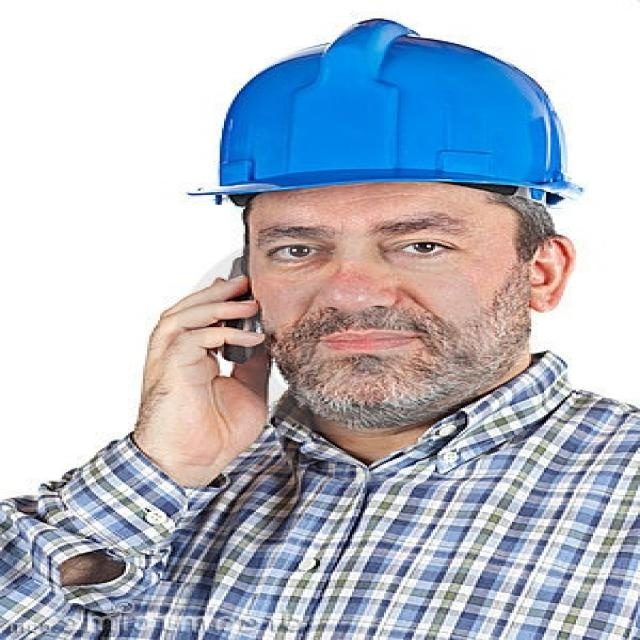Con_Casco: (203, 15, 575, 427)
